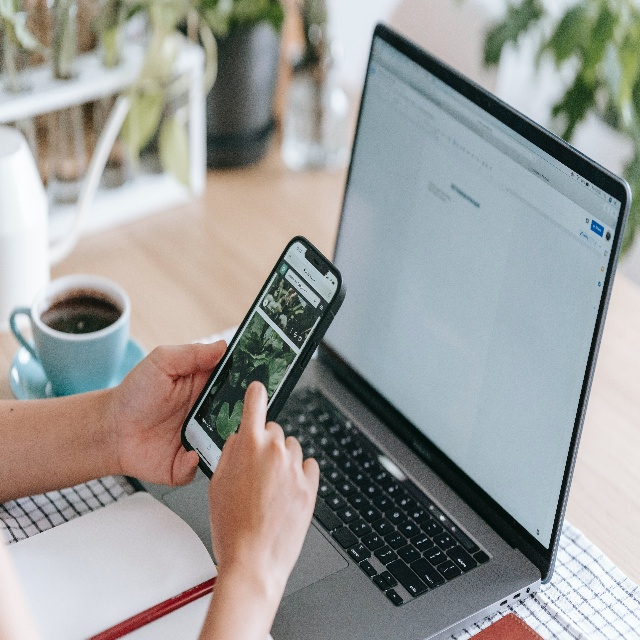Sin_guantes: (207, 380, 320, 584), (113, 338, 229, 490)
